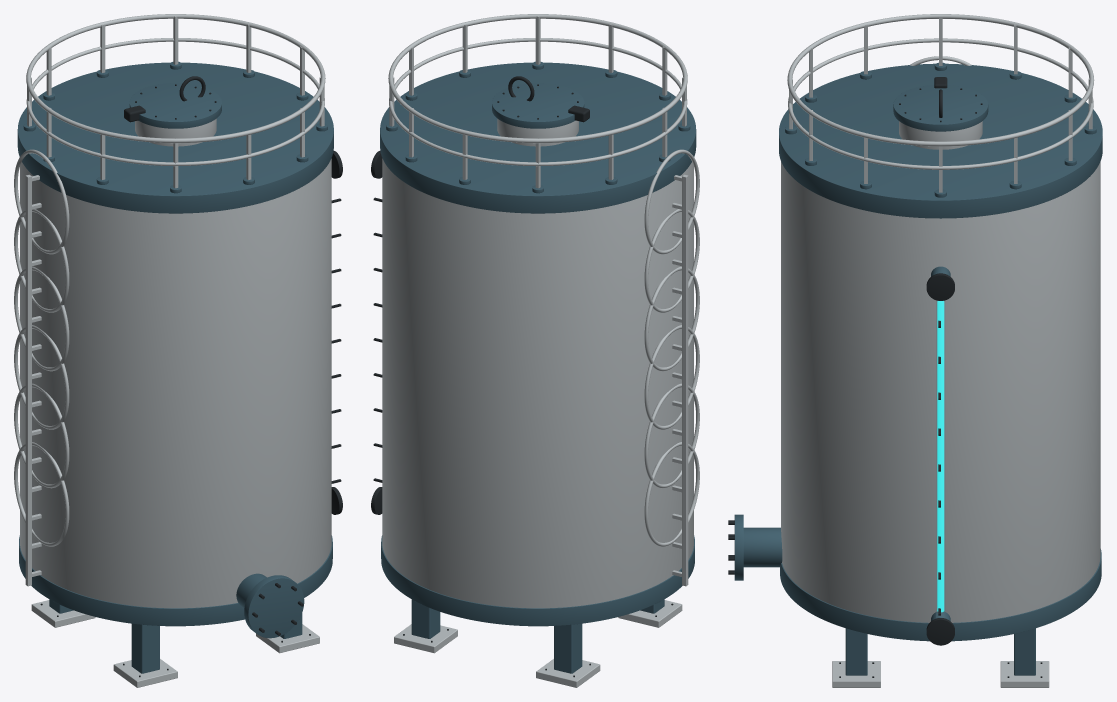
Rendered from collection_tank_bank.glb.
The picture shows the model from 3 angles, left to right: view 1: azimuth 30°, elevation 25°; view 2: azimuth 150°, elevation 25°; view 3: azimuth 270°, elevation 25°; orthographic projection. The views are drawn at different scales.
Visible parts, largest first — view 1: TANK_shell, TANK_roof, TANK_bottom, RAIL_top, MANWAY_cover, LADDER_rail_-1.58, NOZZLE_outlet_flange, RAIL_mid, LEG_225, MANWAY_neck, FOOT_225, LADDER_cage_5 (+7 smaller); view 2: TANK_shell, TANK_roof, TANK_bottom, RAIL_top, MANWAY_cover, LADDER_rail_-1.58, RAIL_mid, LEG_135, MANWAY_neck, FOOT_135, FOOT_45, LADDER_cage_5 (+7 smaller); view 3: TANK_shell, TANK_roof, TANK_bottom, RAIL_top, MANWAY_cover, RAIL_mid, SIGHT_glass, KIN_liquid, NOZZLE_outlet, MANWAY_neck, FOOT_45, LEG_315 (+5 smaller).
Part boxes in pixels (x1,y1,x2,y2): TANK_shell: (20,158,331,608); TANK_roof: (17,62,333,213); TANK_bottom: (19,535,332,626); RAIL_top: (26,14,325,143); MANWAY_cover: (129,83,221,128); LADDER_rail_-1.58: (25,174,31,586); NOZZLE_outlet_flange: (244,575,304,638); RAIL_mid: (26,38,324,166); LEG_225: (131,623,159,673); MANWAY_neck: (135,118,216,146); FOOT_225: (113,659,177,687); LADDER_cage_5: (14,149,69,254); TANK_shell: (382,158,693,608); TANK_roof: (380,62,696,213); TANK_bottom: (381,535,694,626); RAIL_top: (388,14,687,143); MANWAY_cover: (492,83,584,128); LADDER_rail_-1.58: (682,174,688,586); RAIL_mid: (389,38,687,166); LEG_135: (554,623,582,673); MANWAY_neck: (497,118,578,146); FOOT_135: (536,659,600,687); FOOT_45: (394,624,457,653); LADDER_cage_5: (644,149,699,254); TANK_shell: (781,161,1100,622); TANK_roof: (779,63,1102,218); TANK_bottom: (780,549,1101,641); RAIL_top: (787,14,1094,146); MANWAY_cover: (893,85,988,131); RAIL_mid: (788,38,1093,169); SIGHT_glass: (936,300,945,617); KIN_liquid: (937,301,944,612); NOZZLE_outlet: (743,527,782,567); MANWAY_neck: (899,121,982,149); FOOT_45: (1000,661,1049,687); LEG_315: (845,628,867,675).
Size of the model in its own units: 3.37 by 5.65 by 3.4.
